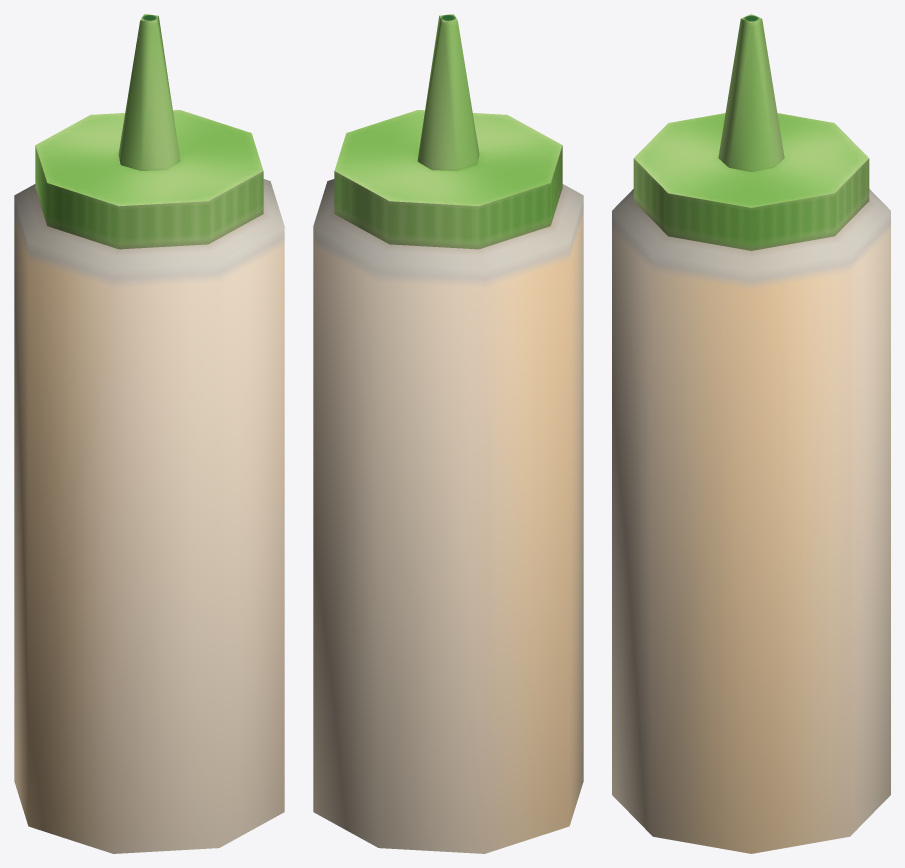
File: jsf_Mayonnaise_01.fbx
3 renders of one model, left to right at view 1: azimuth 30°, elevation 25°; view 2: azimuth 150°, elevation 25°; view 3: azimuth 270°, elevation 25°, orthographic.
Visible parts, largest first — view 1: jsf_Mayonnaise_01; view 2: jsf_Mayonnaise_01; view 3: jsf_Mayonnaise_01.
Part boxes in pixels (x1,y1,x2,y2): jsf_Mayonnaise_01: [14, 14, 284, 853]; jsf_Mayonnaise_01: [313, 14, 583, 853]; jsf_Mayonnaise_01: [612, 14, 890, 853].
Size of the model in its own units: 6.9 by 21.21 by 6.9.
